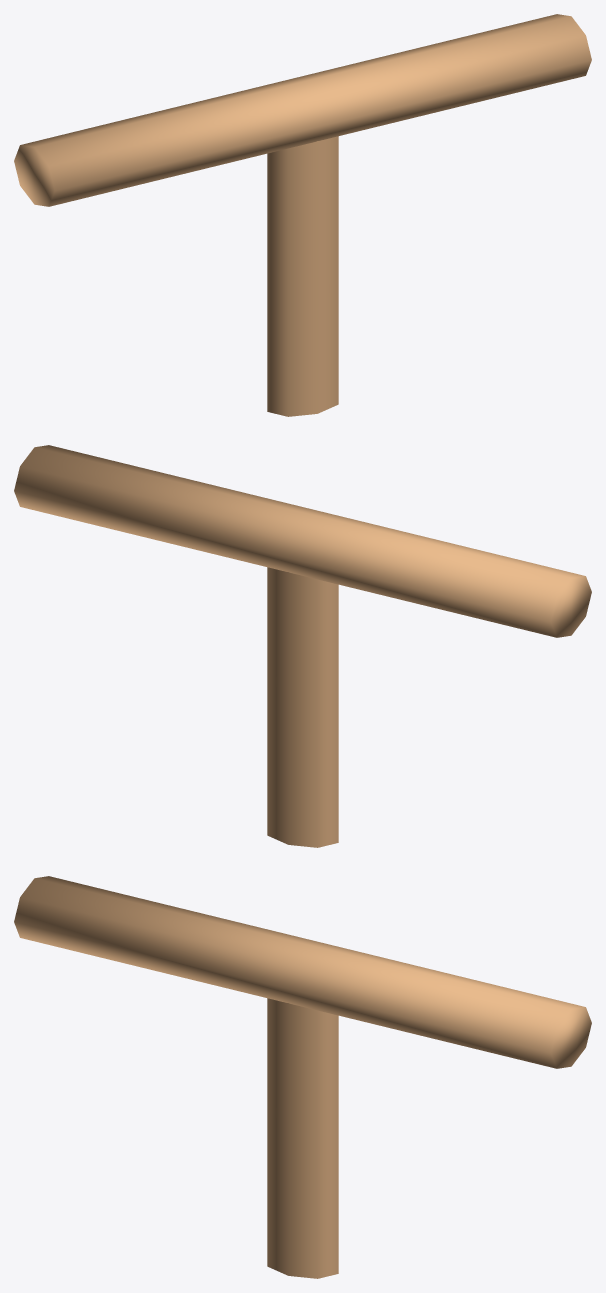
The model's file is PerchR.fbx.
3 views of the same model, one above another, from view 1: azimuth 30°, elevation 25°; view 2: azimuth 150°, elevation 25°; view 3: azimuth 330°, elevation 25° (orthographic).
Visible parts, largest first — view 1: PerchR; view 2: PerchR; view 3: PerchR.
Boxes of the visible parts, bbox=[...] form: PerchR: bbox=[14, 14, 591, 416]; PerchR: bbox=[14, 445, 591, 847]; PerchR: bbox=[14, 876, 591, 1278].
Size of the model in its own units: 99.59 by 56.95 by 13.16.
